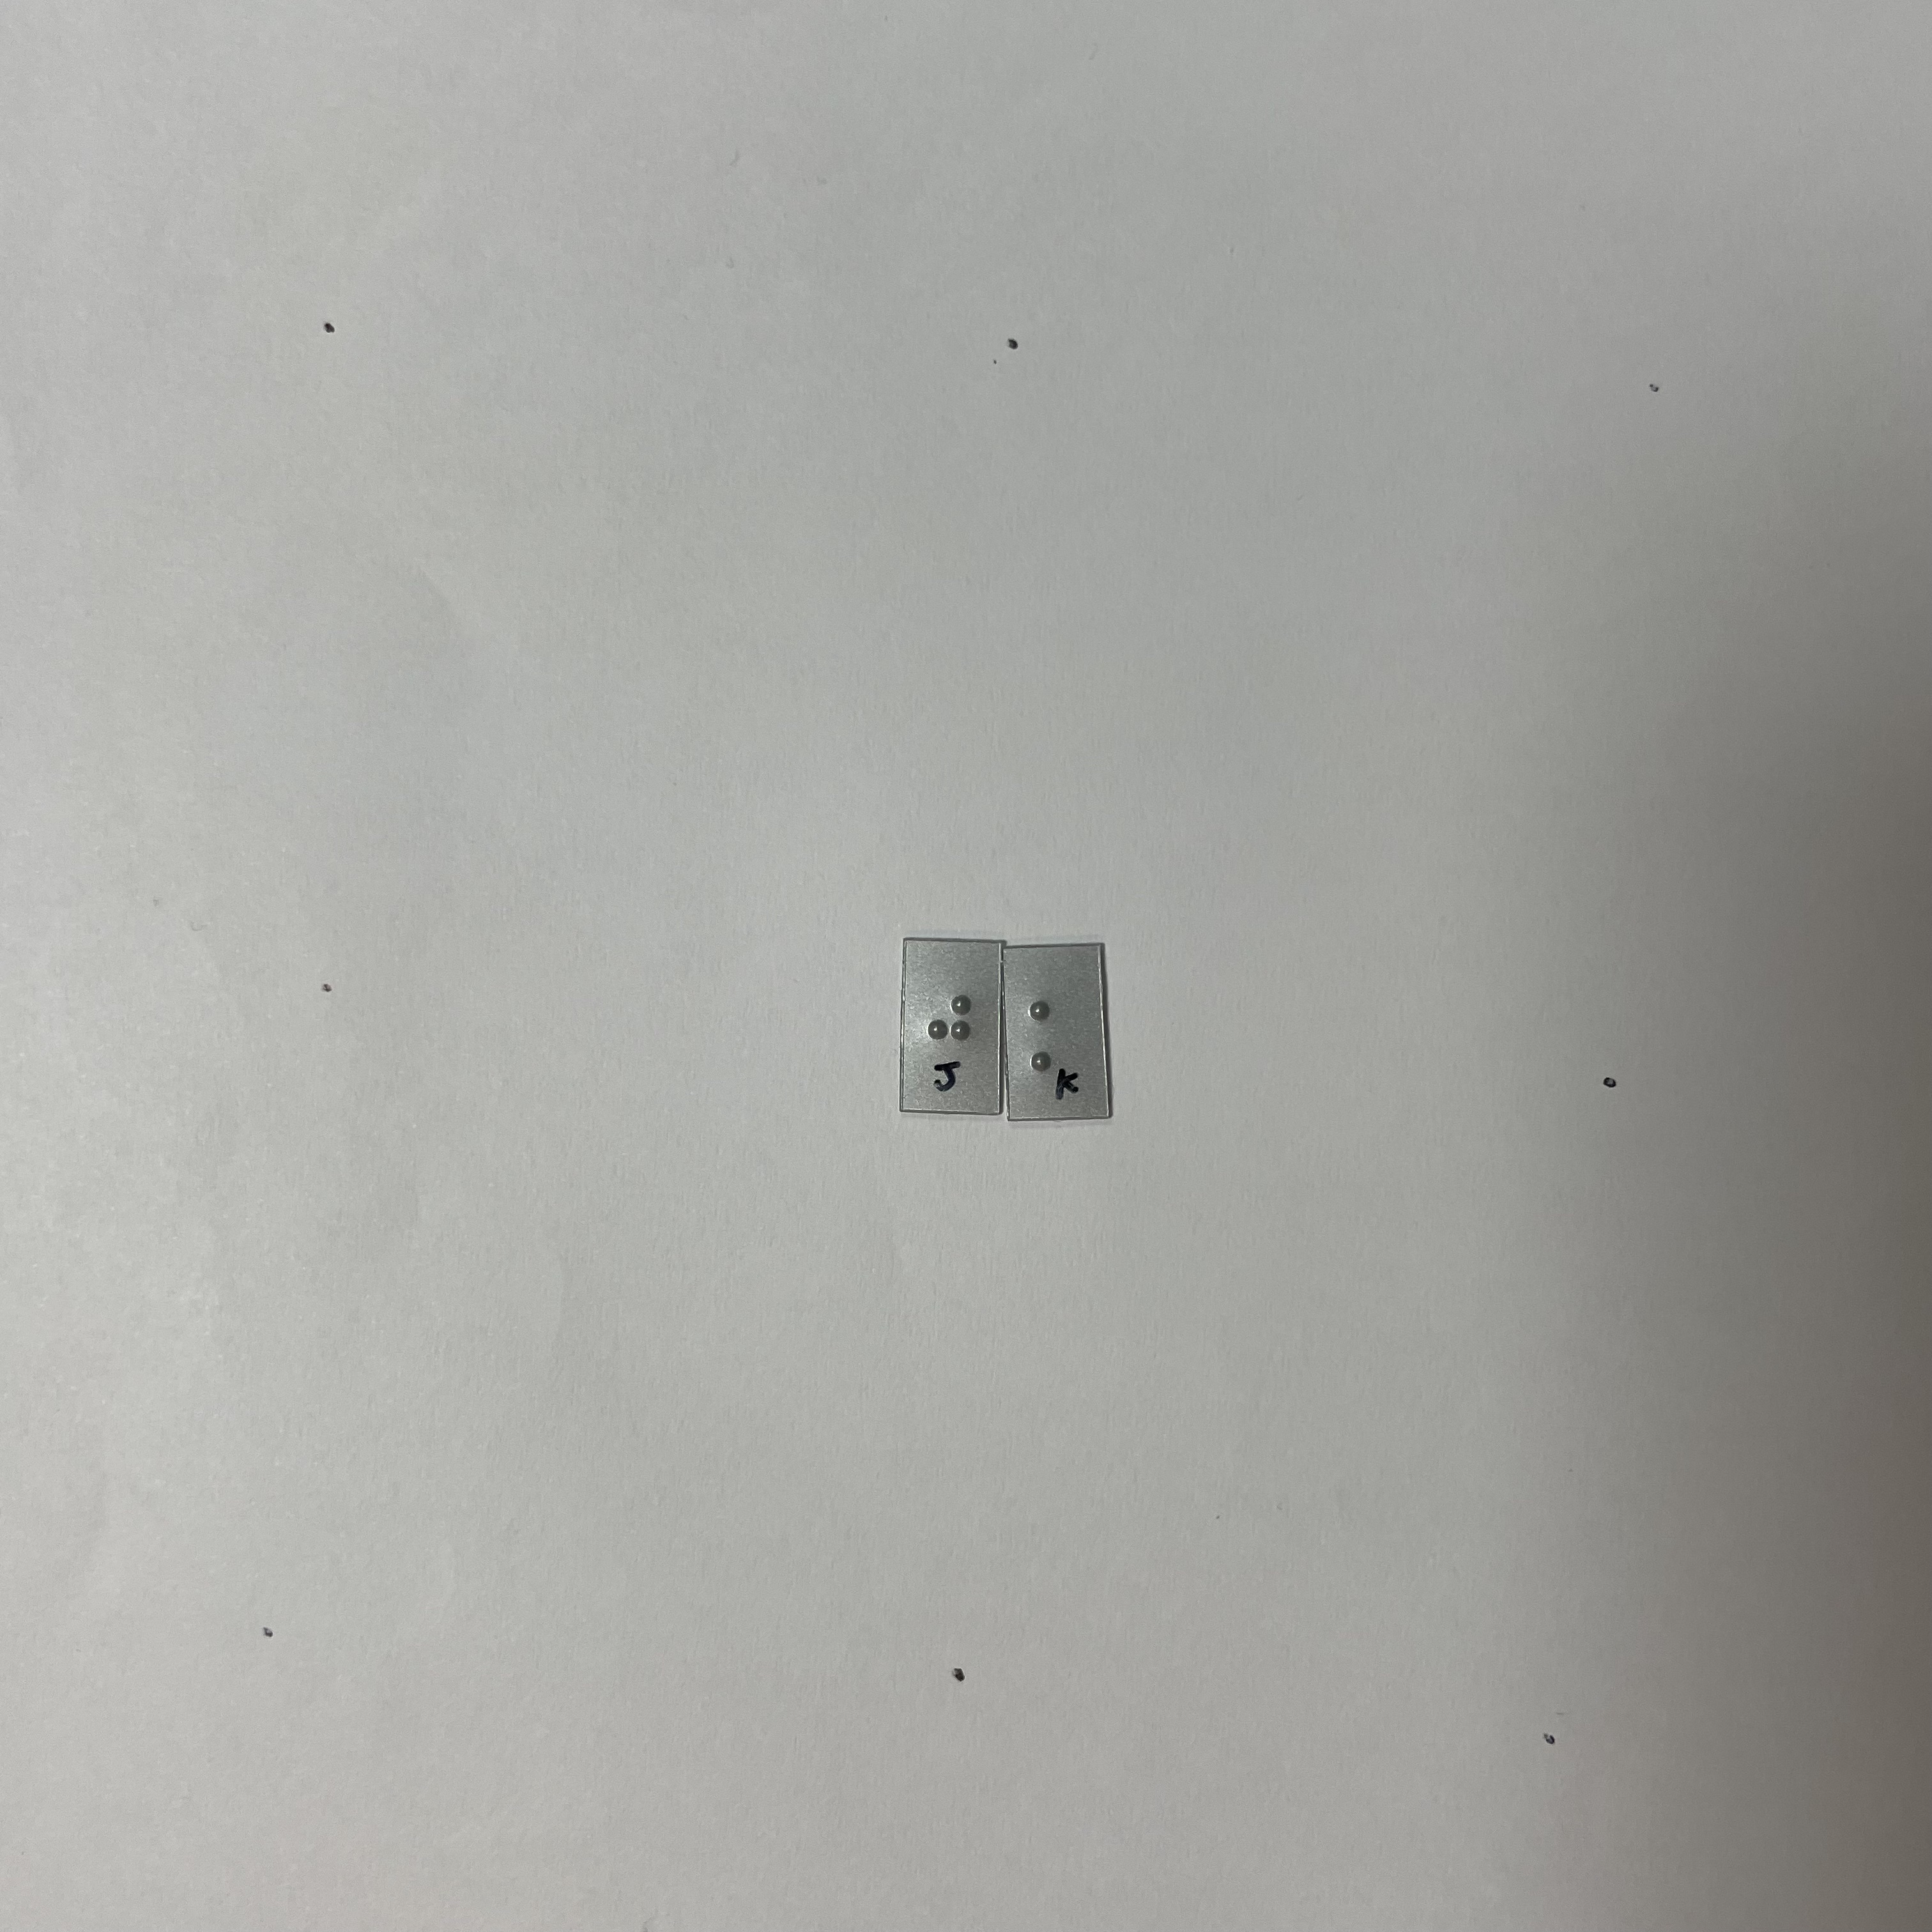j: (923, 987, 982, 1079)
k: (1022, 982, 1089, 1086)
